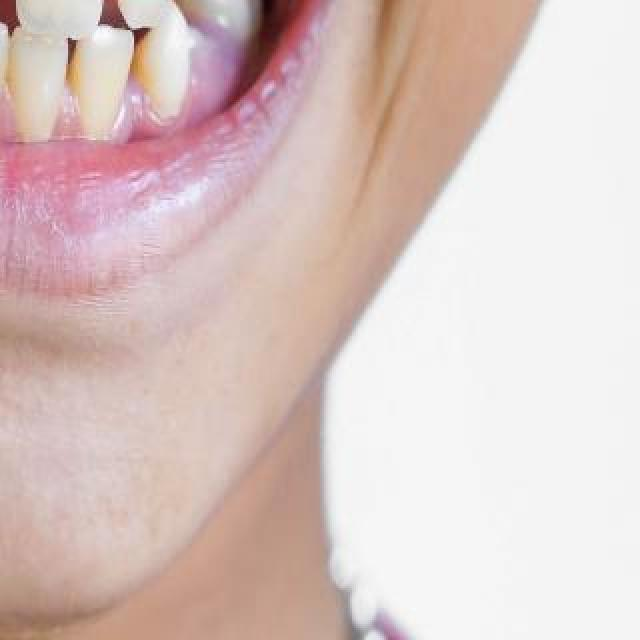spacing: (51, 33, 95, 103), (119, 41, 161, 103), (100, 0, 136, 20), (0, 0, 28, 22)
